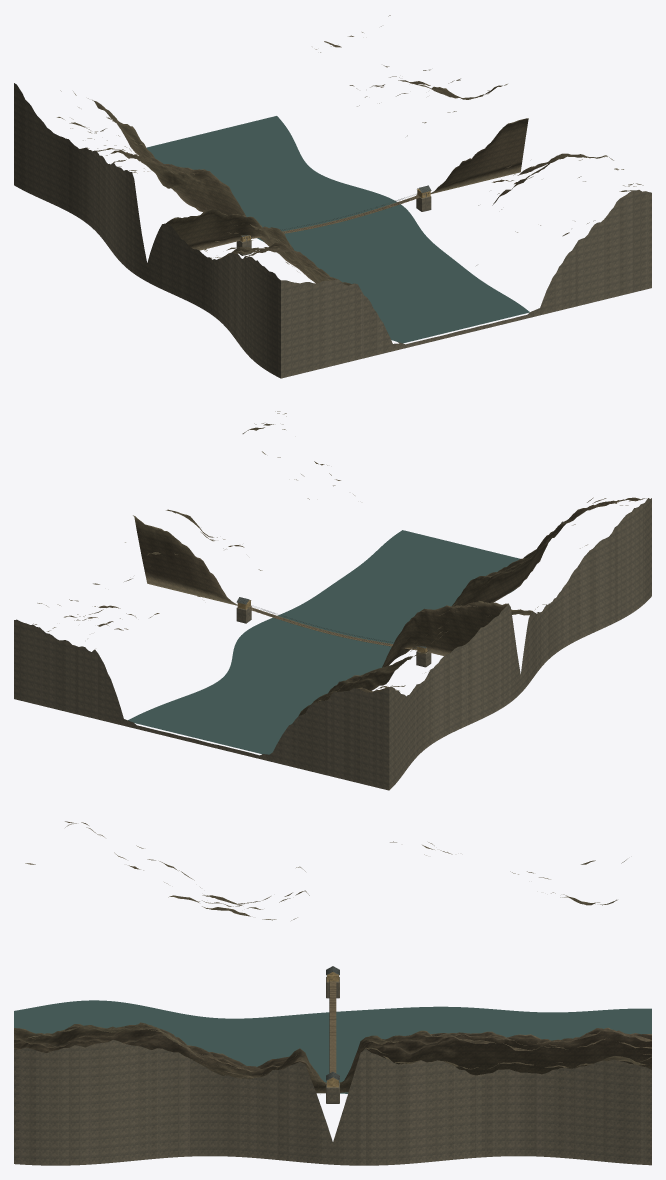
The model's file is ch07_luding_bridge.glb.
3 renders of one model, top to bottom at view 1: azimuth 30°, elevation 25°; view 2: azimuth 150°, elevation 25°; view 3: azimuth 270°, elevation 25°, orthographic. The views are drawn at different scales.
Parts seen in each view (by area): view 1: terrain_boundary__closed_earth_boundary, water_placeholder__river_waterline, terrain__eroded_landscape; view 2: terrain_boundary__closed_earth_boundary, water_placeholder__river_waterline, terrain__eroded_landscape; view 3: terrain_boundary__closed_earth_boundary, water_placeholder__river_waterline, terrain__eroded_landscape, RemovableDeckBoards.
Part boxes in pixels (x1,y1,x2,y2): terrain_boundary__closed_earth_boundary: [14, 83, 651, 378]; water_placeholder__river_waterline: [146, 116, 529, 343]; terrain__eroded_landscape: [57, 15, 643, 343]; terrain_boundary__closed_earth_boundary: [14, 498, 651, 790]; water_placeholder__river_waterline: [128, 530, 520, 754]; terrain__eroded_landscape: [33, 411, 648, 715]; terrain_boundary__closed_earth_boundary: [14, 1040, 651, 1165]; water_placeholder__river_waterline: [14, 1000, 651, 1093]; terrain__eroded_landscape: [14, 821, 651, 1093]; RemovableDeckBoards: [329, 982, 336, 1072].
Bounding box in the file's own units: 230 × 63.09 × 280.
Materials: 7 (6 with a texture image).
